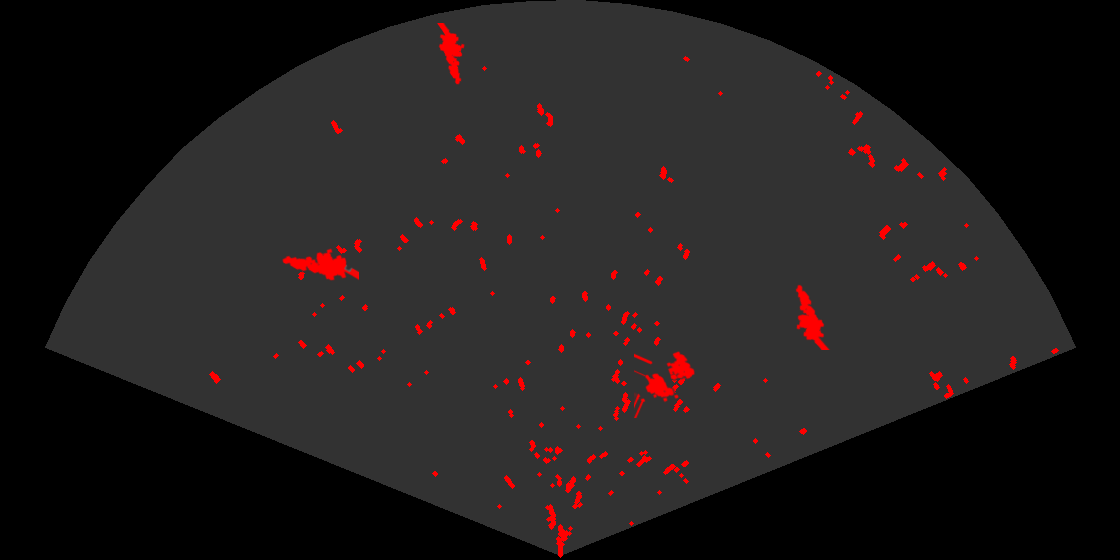cage: (634, 350, 696, 418)
frogman: (281, 247, 359, 282), (794, 283, 832, 350), (436, 23, 466, 86)
